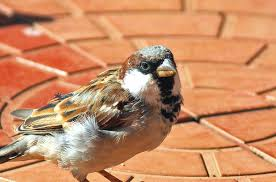hsparrow: (1, 42, 185, 182)
